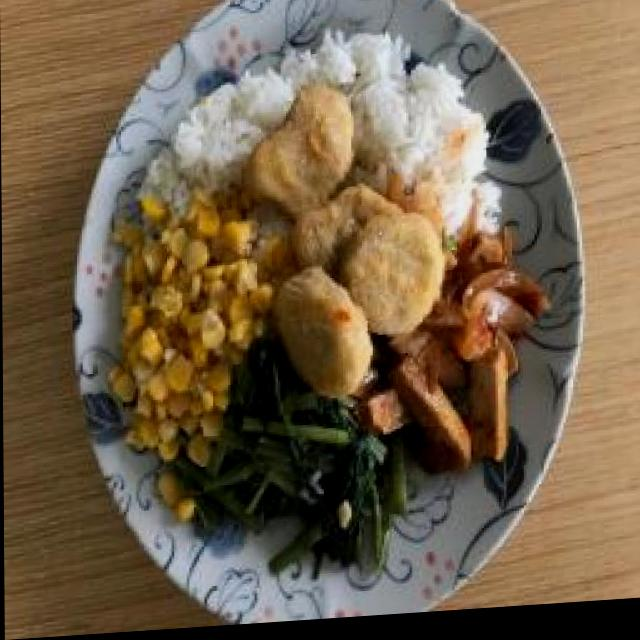chicken_nuggets: (249, 85, 440, 398), (277, 268, 380, 414)
rice: (355, 32, 489, 209)
water_spinach: (202, 347, 401, 573)
